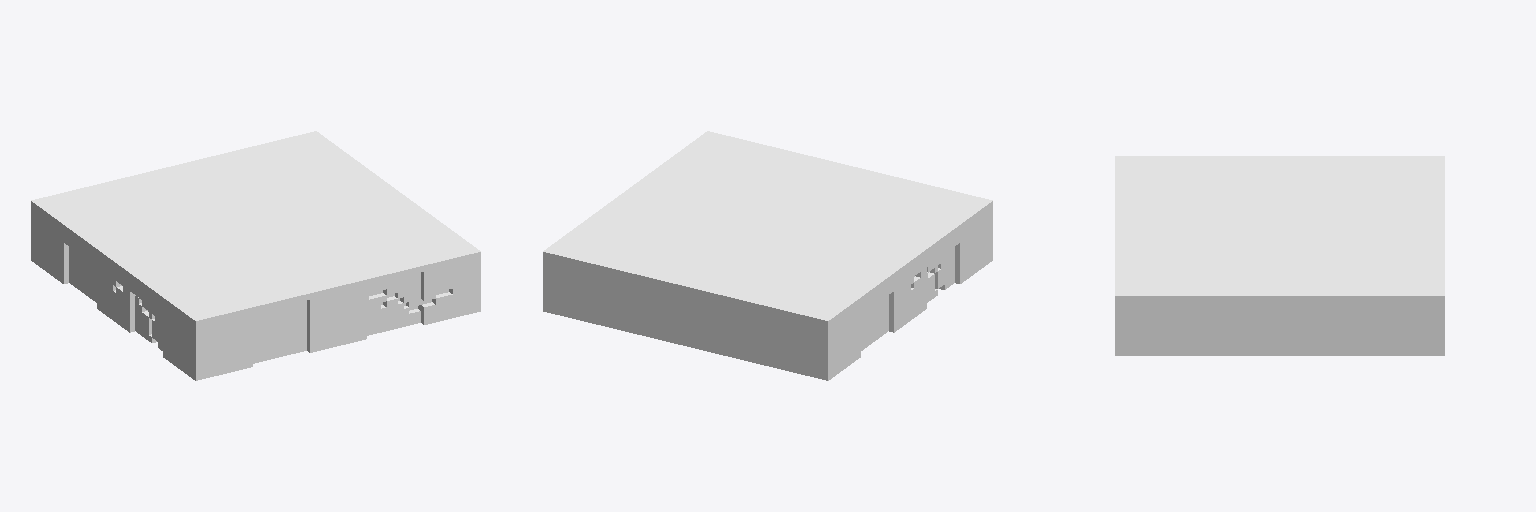
The model's file is TerrainVar2.obj.
The picture shows the model from 3 angles: view 1: azimuth 30°, elevation 25°; view 2: azimuth 150°, elevation 25°; view 3: azimuth 270°, elevation 25°; orthographic projection.
Visible parts, largest first — view 1: object 1; view 2: object 1; view 3: object 1.
Part boxes in pixels (x1,y1,x2,y2): object 1: (31,131,480,380); object 1: (543,131,992,380); object 1: (1115,156,1444,355).
Size of the model in its own units: 5 by 1 by 5.